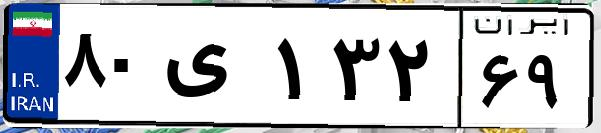0: (110, 28, 158, 98)
1: (270, 28, 330, 110)
2: (385, 28, 445, 110)
3: (330, 28, 385, 110)
6: (475, 38, 525, 113)
8: (57, 26, 110, 100)
9: (525, 38, 570, 115)
ی: (158, 20, 270, 120)
